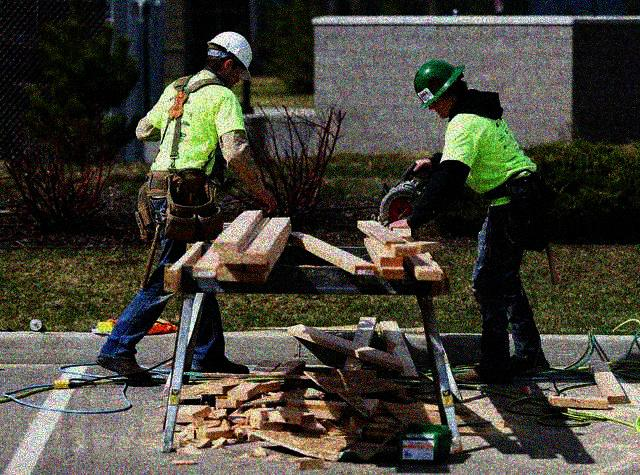helmet: (412, 58, 468, 119), (205, 29, 254, 90)
